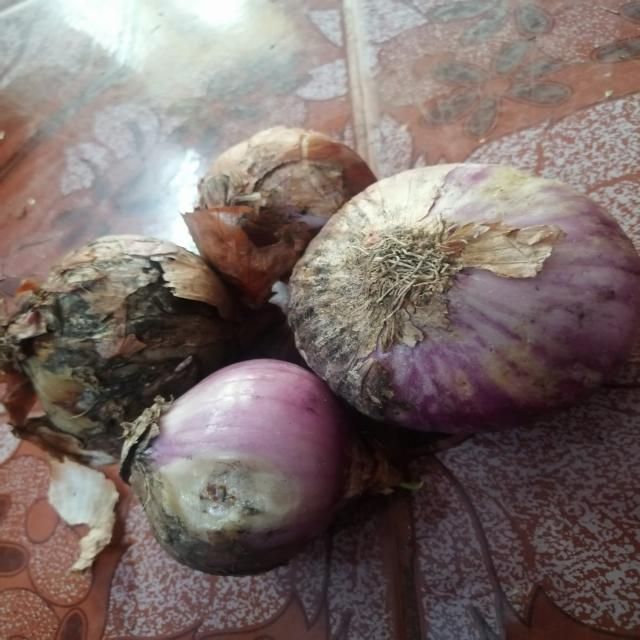rotten: (286, 269, 406, 391), (49, 286, 152, 394), (184, 493, 266, 561)
